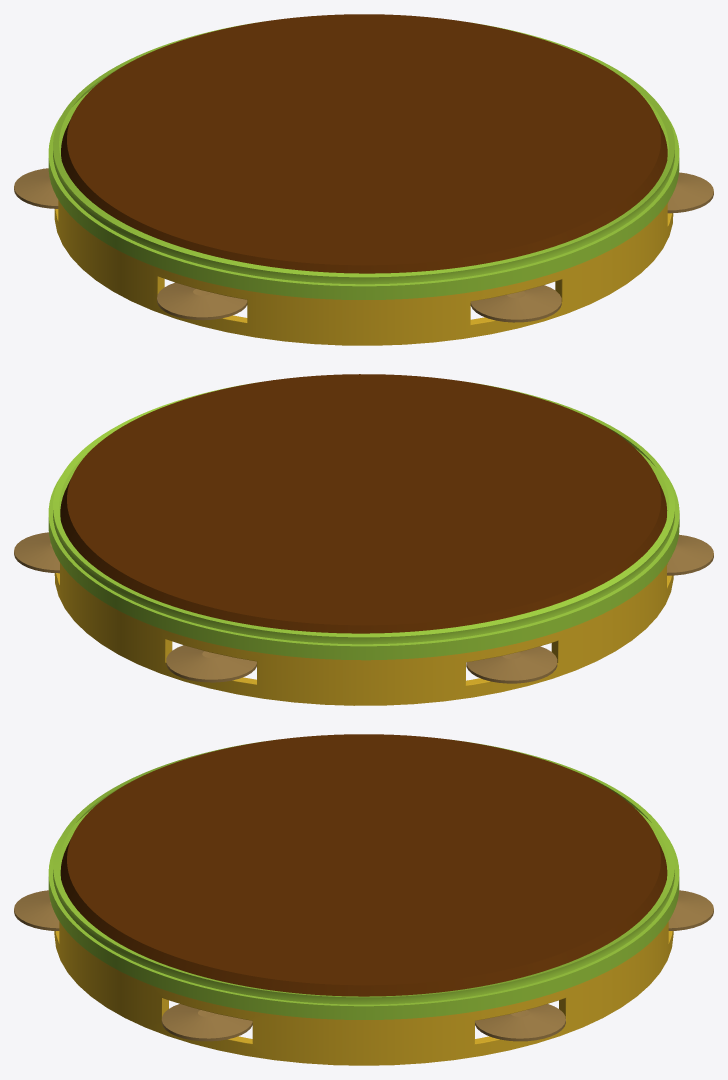
Rendered from Pandeiro.fbx.
3 views of the same model, one above another, from view 1: azimuth 30°, elevation 25°; view 2: azimuth 150°, elevation 25°; view 3: azimuth 270°, elevation 25° (orthographic).
Parts seen in each view (by area): view 1: Pandeiro; view 2: Pandeiro; view 3: Pandeiro.
Part boxes in pixels (<box>): Pandeiro: <box>14,14,713,345</box>; Pandeiro: <box>14,374,713,705</box>; Pandeiro: <box>14,734,713,1065</box>.
Bounding box in the file's own units: 0.907 × 0.1194 × 1.01.
